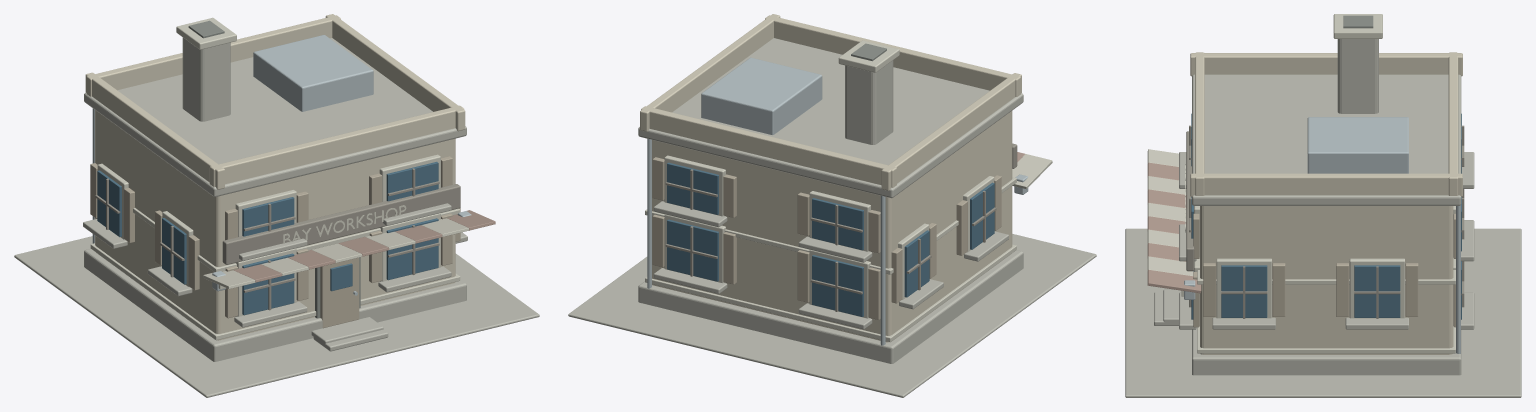
Rendered from district_art_1.glb.
3 renders of one model, left to right at view 1: azimuth 30°, elevation 25°; view 2: azimuth 150°, elevation 25°; view 3: azimuth 270°, elevation 25°, orthographic. The views are drawn at different scales.
Visible parts, largest first — view 1: stone, plaster, trim, glass, wood, metal, timber, cloth, dark; view 2: stone, plaster, glass, trim, metal, wood, timber; view 3: stone, plaster, trim, metal, glass, wood, cloth, timber, dark.
Boxes of the visible parts, box(x1,y1,x2,y2) form: stone: box(14, 37, 539, 397); plaster: box(85, 14, 465, 340); trim: box(90, 17, 468, 340); glass: box(97, 161, 438, 315); wood: box(90, 156, 460, 328); metal: box(92, 35, 471, 295); timber: box(95, 168, 460, 310); cloth: box(234, 210, 495, 282); dark: box(188, 20, 360, 318); stone: box(568, 38, 1096, 397); plaster: box(640, 14, 1021, 342); glass: box(667, 162, 994, 316); trim: box(645, 40, 1052, 342); metal: box(647, 57, 1028, 345); wood: box(652, 157, 1001, 319); timber: box(665, 143, 1017, 311); stone: box(1125, 39, 1521, 397); plaster: box(1190, 52, 1462, 354); trim: box(1147, 14, 1455, 353); metal: box(1184, 117, 1460, 353); glass: box(1191, 113, 1461, 319); wood: box(1193, 213, 1455, 327); cloth: box(1147, 162, 1201, 293); timber: box(1186, 125, 1464, 318); dark: box(1343, 15, 1373, 28).
Size of the model in its own units: 12.5 by 9.29 by 12.5.
